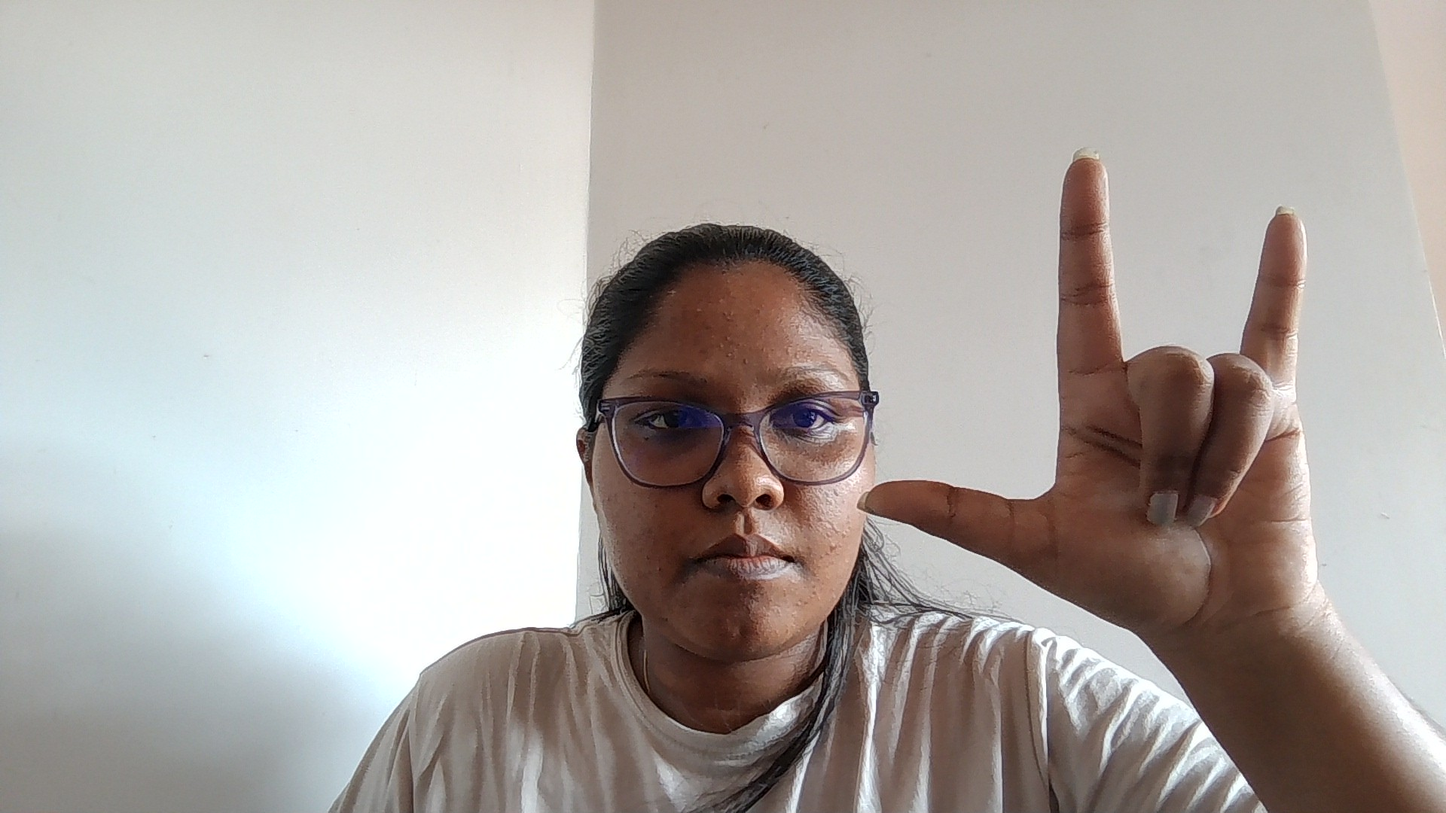I Love You: (898, 98, 1322, 724)
